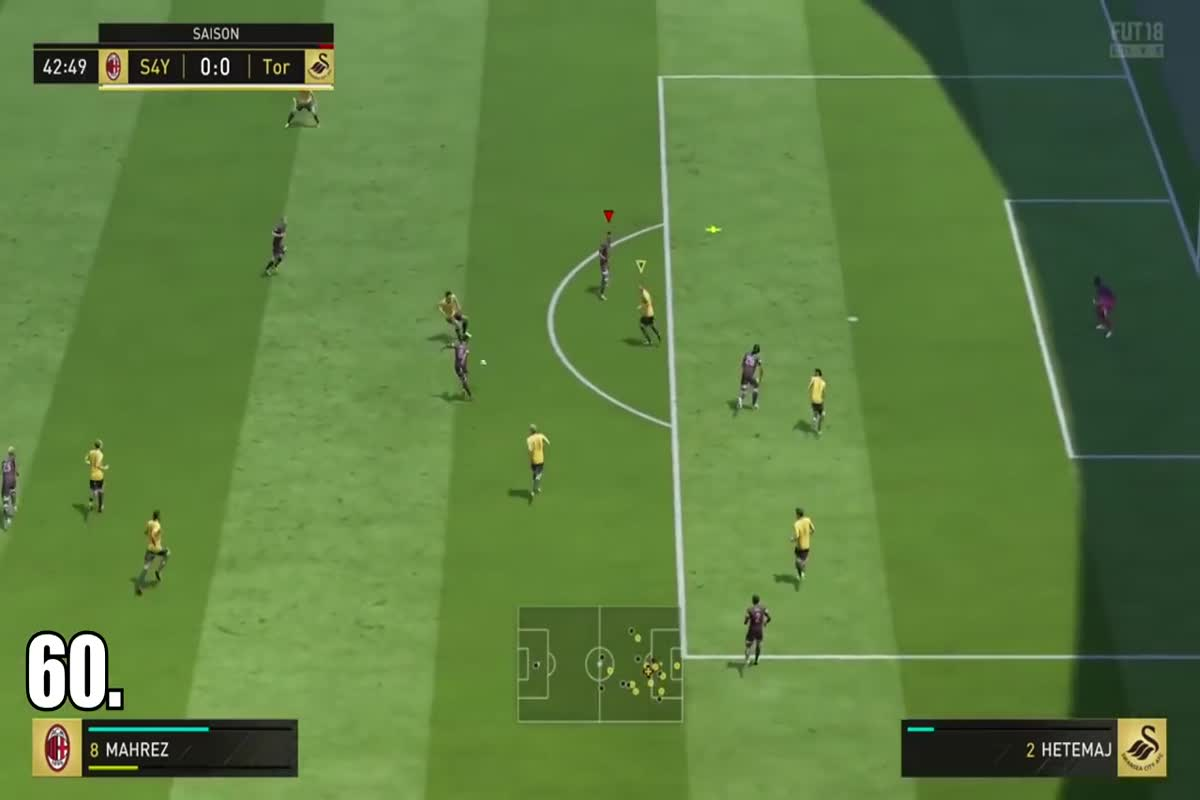ball: (473, 354, 494, 373)
